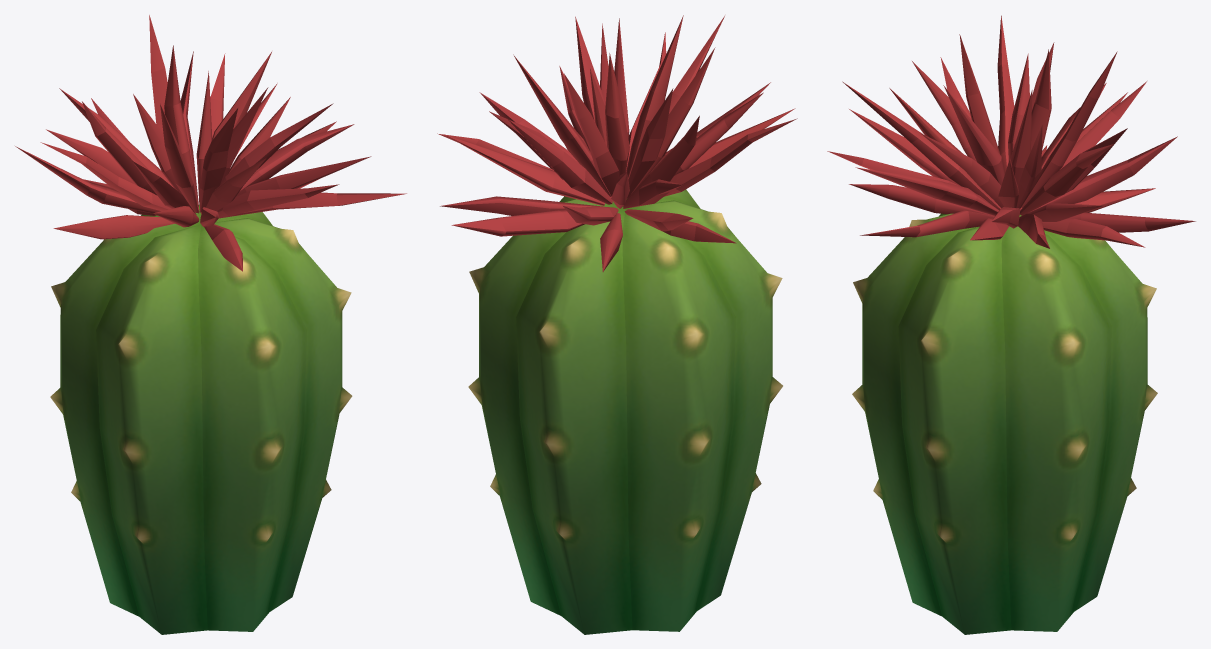
File: Cactus_2.fbx
The picture shows the model from 3 angles, left to right: view 1: azimuth 30°, elevation 25°; view 2: azimuth 150°, elevation 25°; view 3: azimuth 270°, elevation 25°; orthographic projection. The views are drawn at different scales.
Parts seen in each view (by area): view 1: cactus_mesh, uploads_files_3198267_Spiky:Decoration_08_Sea_Urchin; view 2: cactus_mesh, uploads_files_3198267_Spiky:Decoration_08_Sea_Urchin; view 3: cactus_mesh, uploads_files_3198267_Spiky:Decoration_08_Sea_Urchin.
Boxes of the visible parts, x1,y1,x2,y2 form: cactus_mesh: [50, 205, 352, 634]; uploads_files_3198267_Spiky:Decoration_08_Sea_Urchin: [15, 15, 406, 271]; cactus_mesh: [468, 189, 782, 634]; uploads_files_3198267_Spiky:Decoration_08_Sea_Urchin: [437, 15, 797, 271]; cactus_mesh: [852, 213, 1157, 634]; uploads_files_3198267_Spiky:Decoration_08_Sea_Urchin: [827, 15, 1195, 248].
Bounding box in the file's own units: 29.33 × 47.4 × 28.86.
